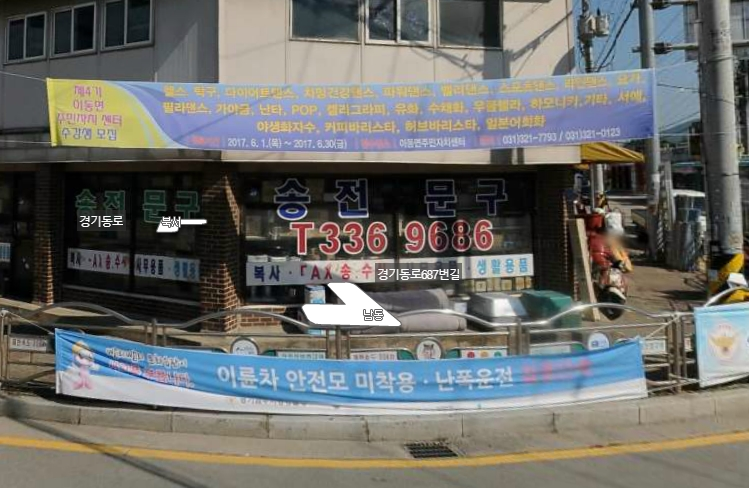banner: (34, 64, 676, 163), (45, 321, 658, 421), (686, 293, 749, 384)
